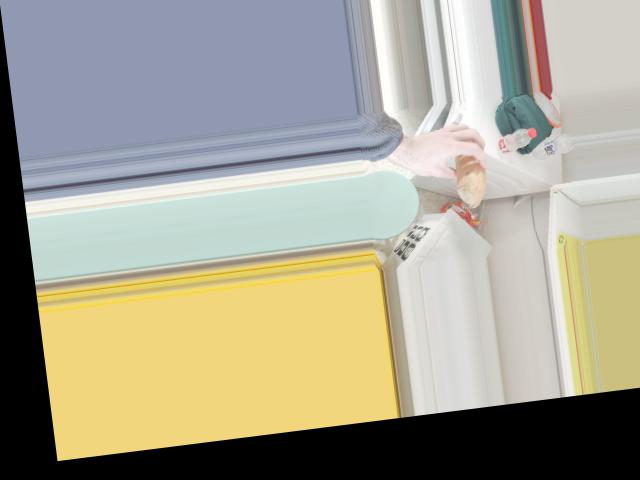sweet_potato: (453, 149, 488, 197)
